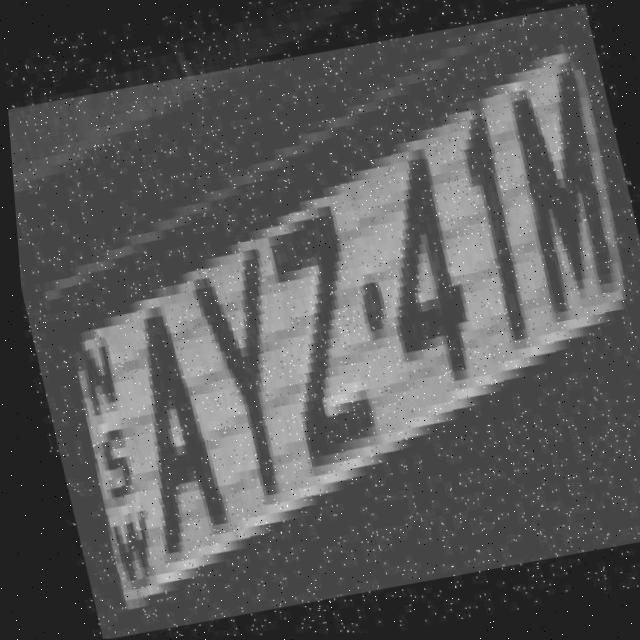LicensePlate: (1, 5, 640, 640)
